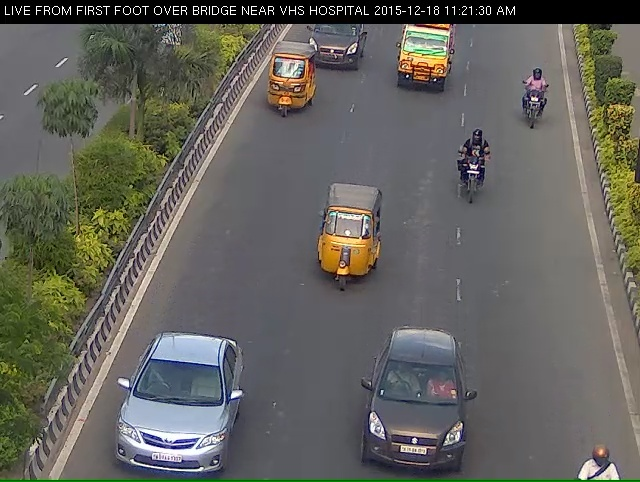Auto: (308, 194, 384, 312), (391, 24, 453, 98), (257, 50, 310, 125)
Car: (104, 352, 236, 474), (303, 20, 364, 80), (303, 19, 363, 80)
Person: (456, 137, 495, 220), (515, 70, 553, 140)
